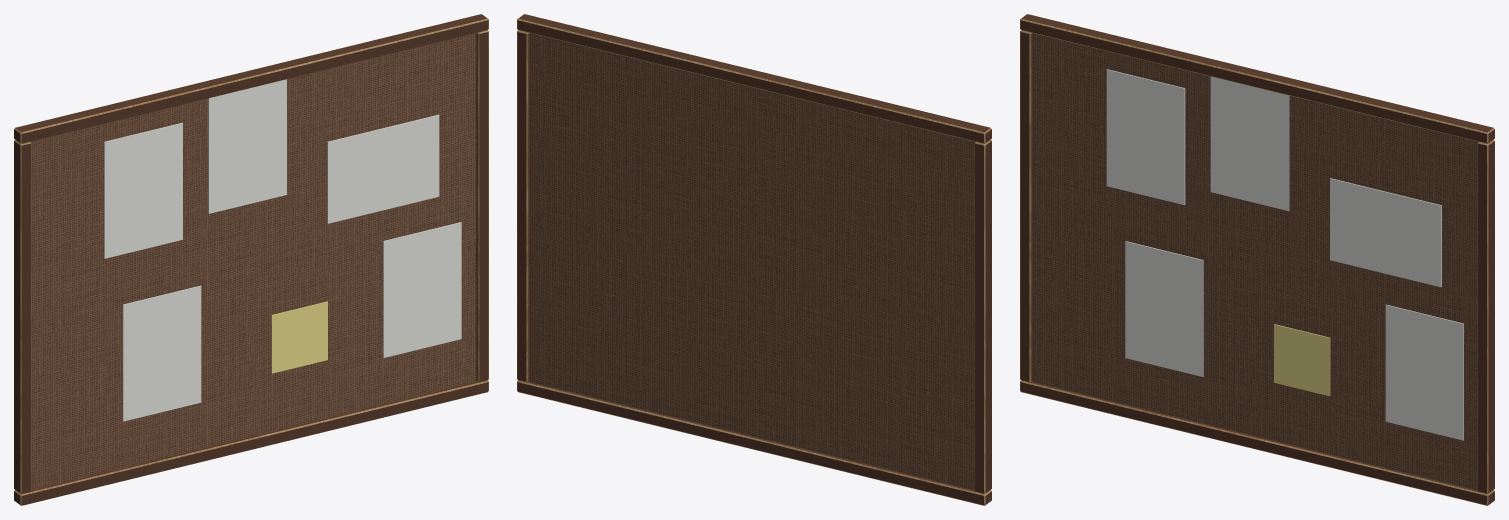
Rendered from notice_board.glb.
3 renders of one model, left to right at view 1: azimuth 30°, elevation 25°; view 2: azimuth 150°, elevation 25°; view 3: azimuth 330°, elevation 25°, orthographic.
Parts seen in each view (by area): view 1: notice_board; view 2: notice_board; view 3: notice_board.
Boxes of the visible parts, x1=… form: notice_board: x1=14, y1=14, x2=488, y2=505; notice_board: x1=517, y1=14, x2=991, y2=505; notice_board: x1=1020, y1=14, x2=1494, y2=505.
Size of the model in its own units: 1.26 by 0.96 by 0.035.
Materials: 4 (2 with a texture image).
